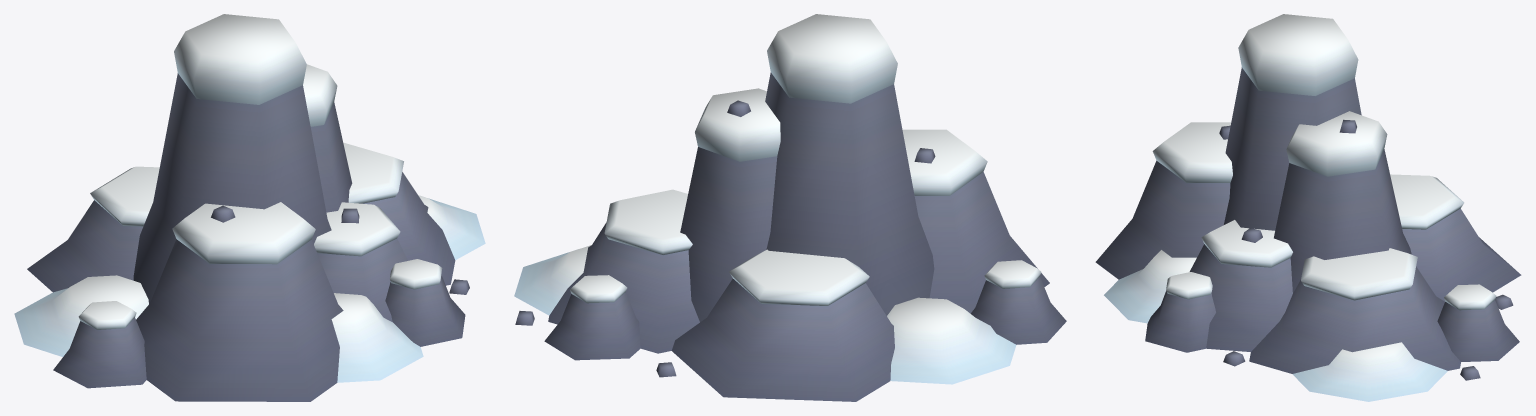
File: rocks-large.glb
The picture shows the model from 3 angles, left to right: view 1: azimuth 30°, elevation 25°; view 2: azimuth 150°, elevation 25°; view 3: azimuth 270°, elevation 25°; orthographic projection. The views are drawn at different scales.
Parts seen in each view (by area): view 1: rocks-large; view 2: rocks-large; view 3: rocks-large.
Boxes of the visible parts, x1=… form: rocks-large: x1=14, y1=14, x2=485, y2=401; rocks-large: x1=514, y1=14, x2=1066, y2=401; rocks-large: x1=1095, y1=14, x2=1521, y2=401.
Size of the model in its own units: 3.14 by 1.71 by 2.69.
Materials: 1 (1 with a texture image).
